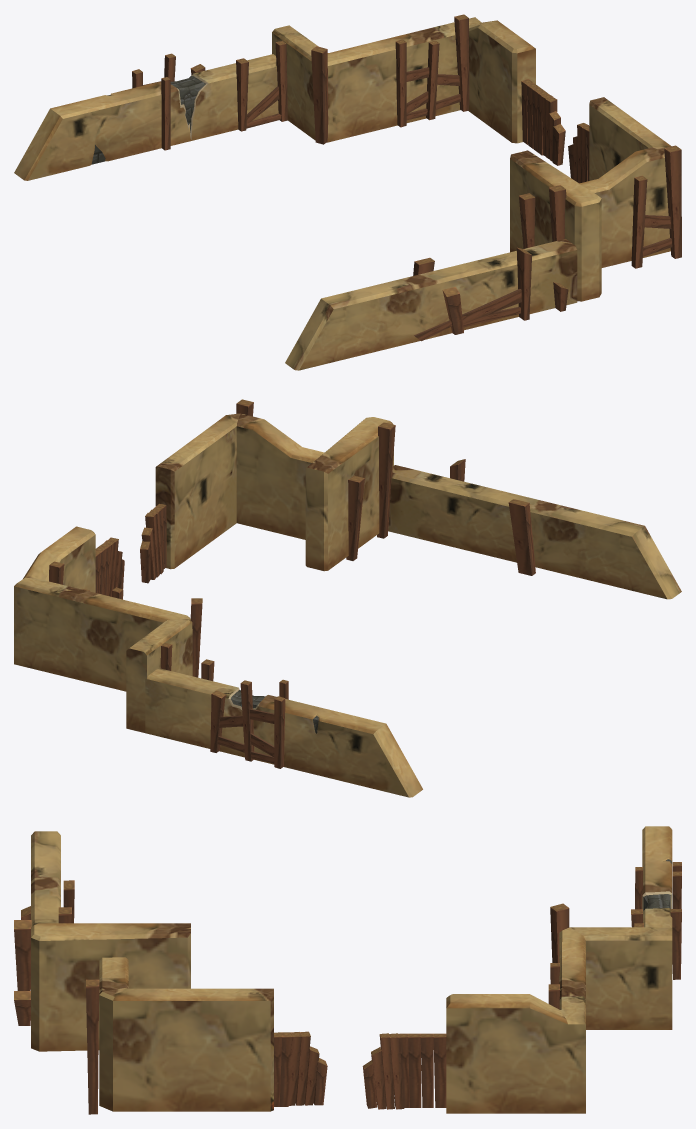
File: bounding_wall01.fbx
3 views of the same model, one above another, from view 1: azimuth 30°, elevation 25°; view 2: azimuth 150°, elevation 25°; view 3: azimuth 270°, elevation 25° (orthographic). The views are drawn at different scales.
Visible parts, largest first — view 1: bounding_wall01; view 2: bounding_wall01; view 3: bounding_wall01.
Part boxes in pixels (x1,y1,x2,y2): bounding_wall01: [14, 14, 681, 370]; bounding_wall01: [14, 399, 681, 797]; bounding_wall01: [14, 826, 681, 1114].
Bounding box in the file's own units: 1625 × 397 × 1891.
Materials: 1 (1 with a texture image).
